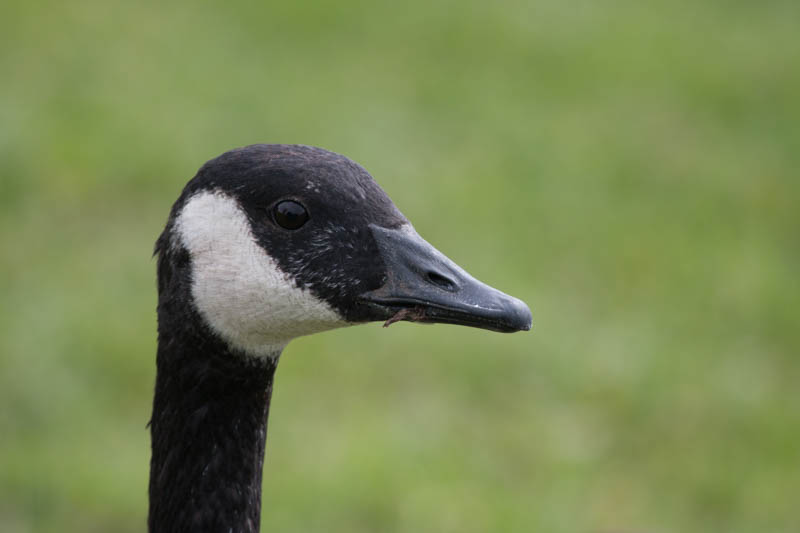goose-head: (158, 144, 533, 365)
